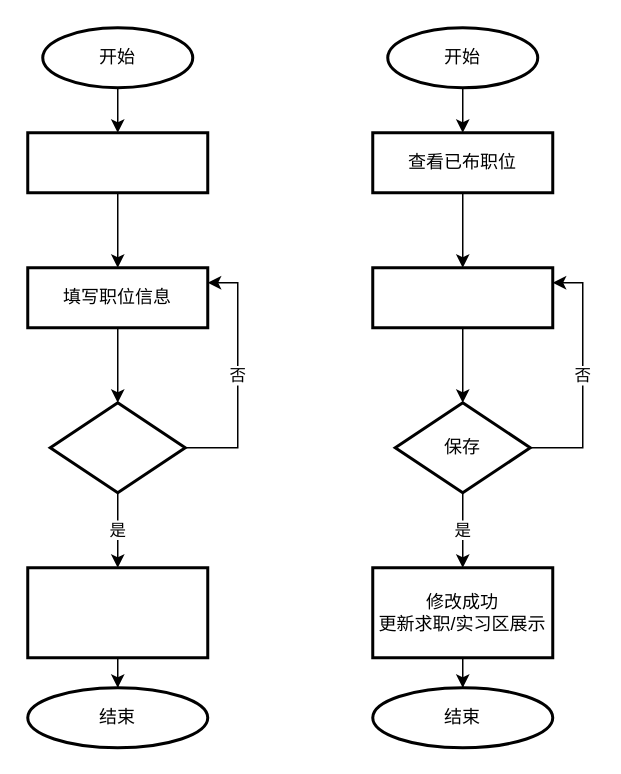
This 621x774 diagram has some shape labels left out. Each missing label, with the centre of its shape:
"修改职位信息" goes at pixel 462 297.
"发布" goes at pixel 117 447.
"发布成功 求职/实习区展示" goes at pixel 117 612.
"点击发布职位" goes at pixel 117 162.
